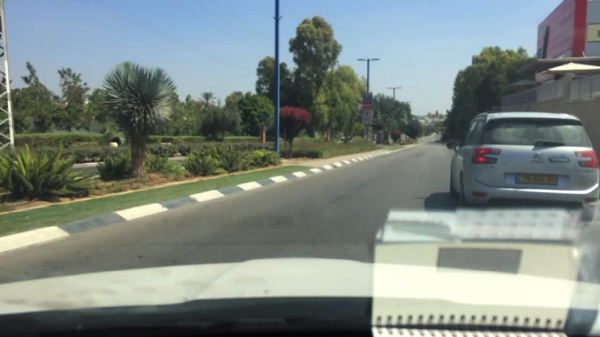car: (449, 110, 599, 221), (435, 130, 442, 136)
traffic sign: (361, 108, 374, 125), (361, 93, 372, 107)
